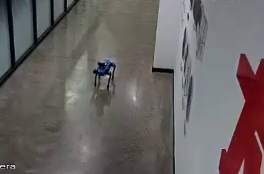robot dog: (90, 58, 119, 94)
